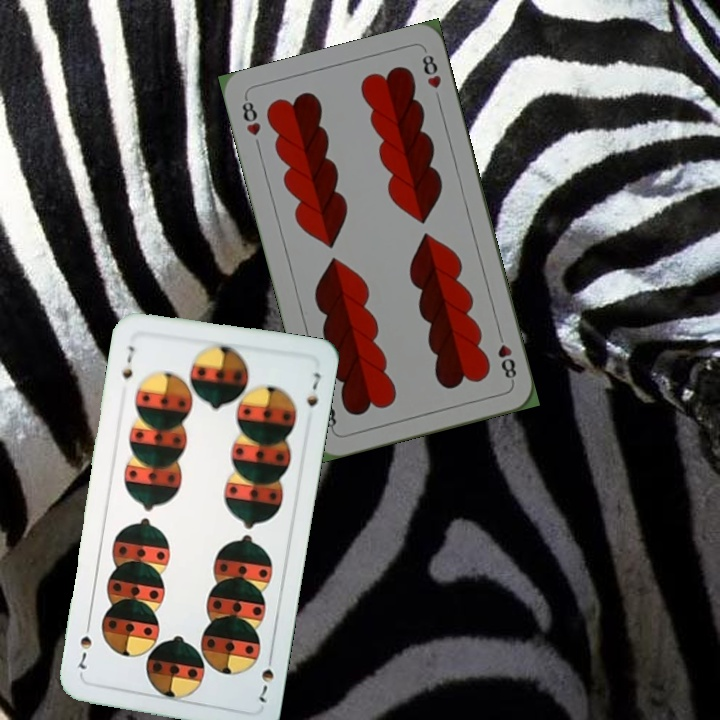H8: (493, 327, 519, 386), (238, 94, 264, 152)
S7: (253, 649, 277, 705), (118, 341, 138, 382)
